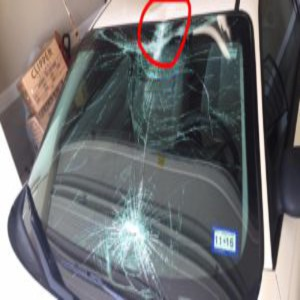front_windshield_glass: (54, 62, 213, 292)
